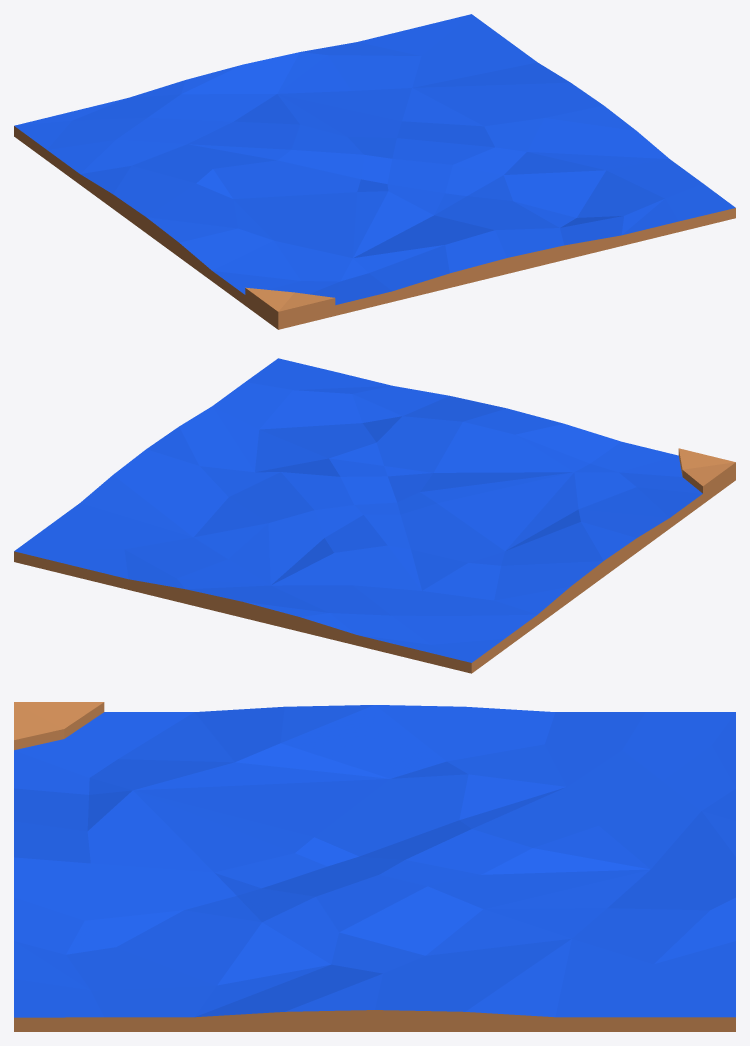
The model's file is Water_mud_3.FBX.
3 views of the same model, one above another, from view 1: azimuth 30°, elevation 25°; view 2: azimuth 150°, elevation 25°; view 3: azimuth 270°, elevation 25° (orthographic). The views are drawn at different scales.
Visible parts, largest first — view 1: Water_mud_3; view 2: Water_mud_3; view 3: Water_mud_3.
Boxes of the visible parts, x1,y1,x2,y2 form: Water_mud_3: (14, 14, 735, 329); Water_mud_3: (14, 358, 735, 673); Water_mud_3: (14, 702, 735, 1031).
Bounding box in the file's own units: 1.5 × 0.0607 × 1.5.
1 material, 1 textured.
